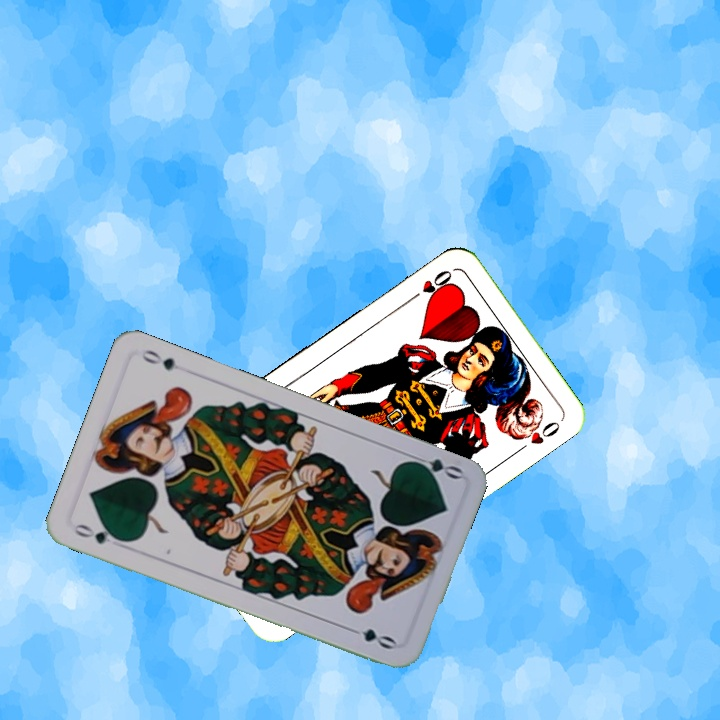GO: (405, 450, 465, 482), (70, 519, 127, 547)
HO: (404, 265, 455, 305)
